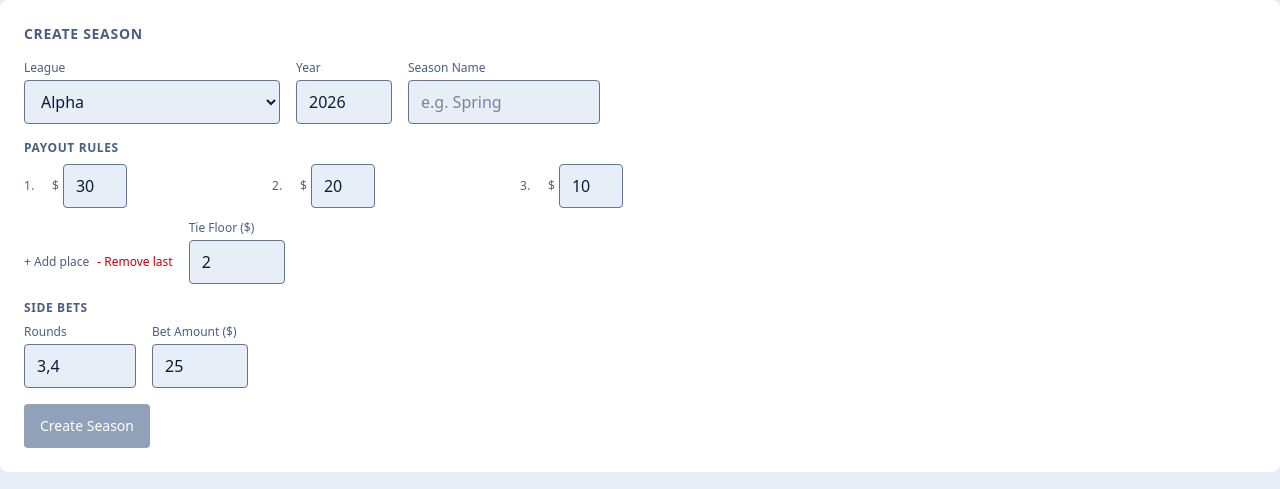
it: CreateSeasonSection › shows the reason the server refuses a season
Expected: the dropdown labelled "League" shows "Alpha", 24,80 -> 280,124
Type "Spring" into the field labelled "Season Name" at (504, 102), box 408,80 -> 600,124
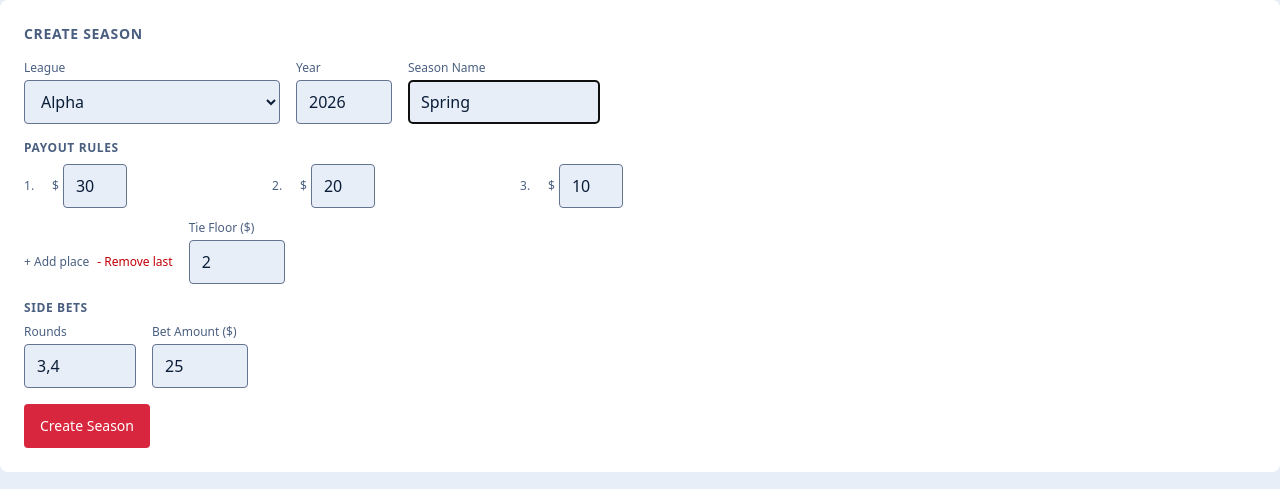
Click the button "Create Season" at (87, 426), box 24,404 -> 150,448
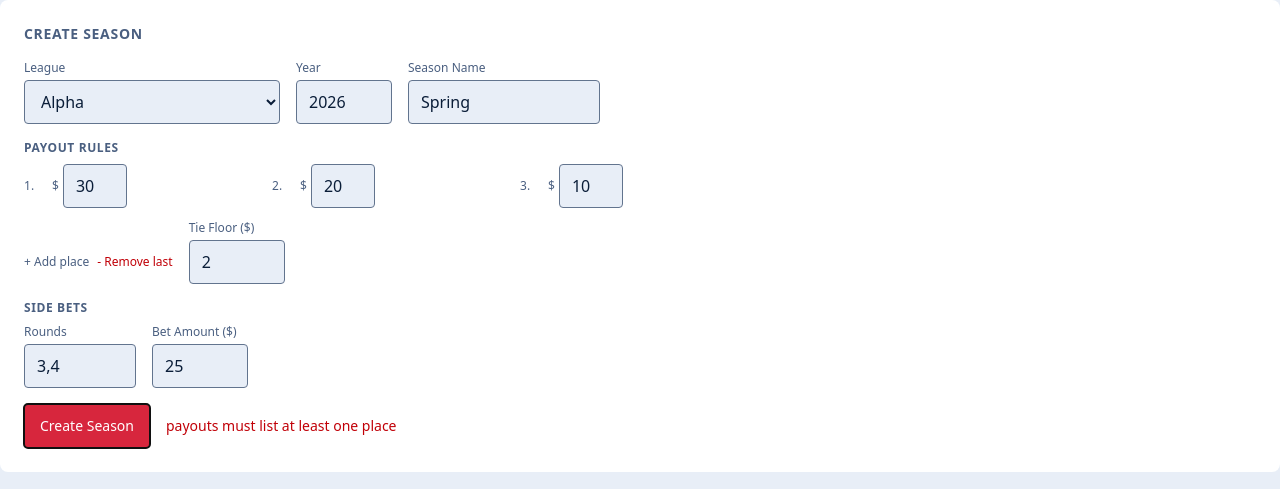
Now the message reads "payouts must list at least one place", box 166,416 -> 397,435
